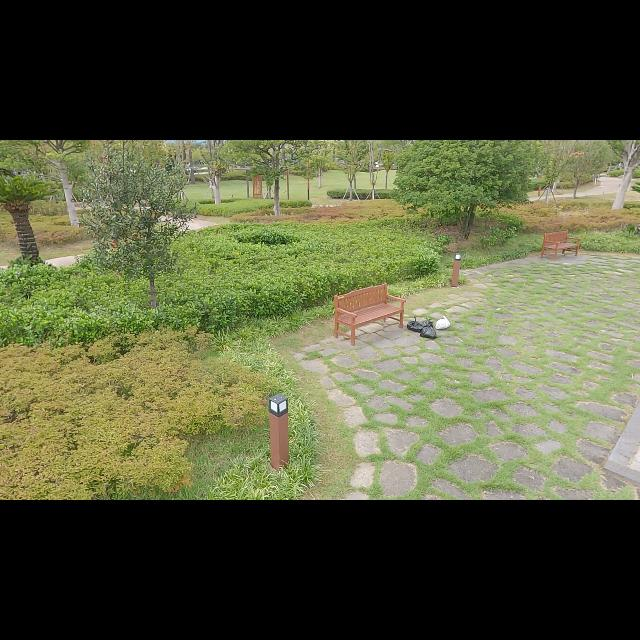trash: (406, 313, 426, 333), (416, 314, 436, 332), (418, 321, 438, 339), (434, 313, 451, 332)
